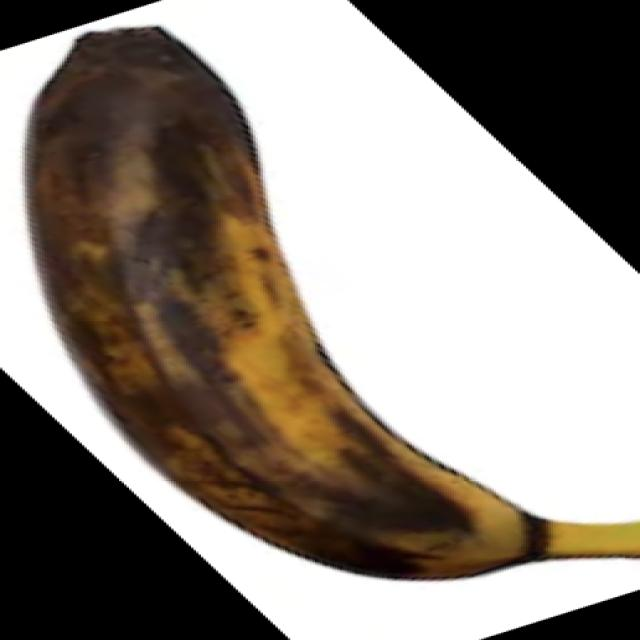Rotten: (12, 16, 640, 615)
